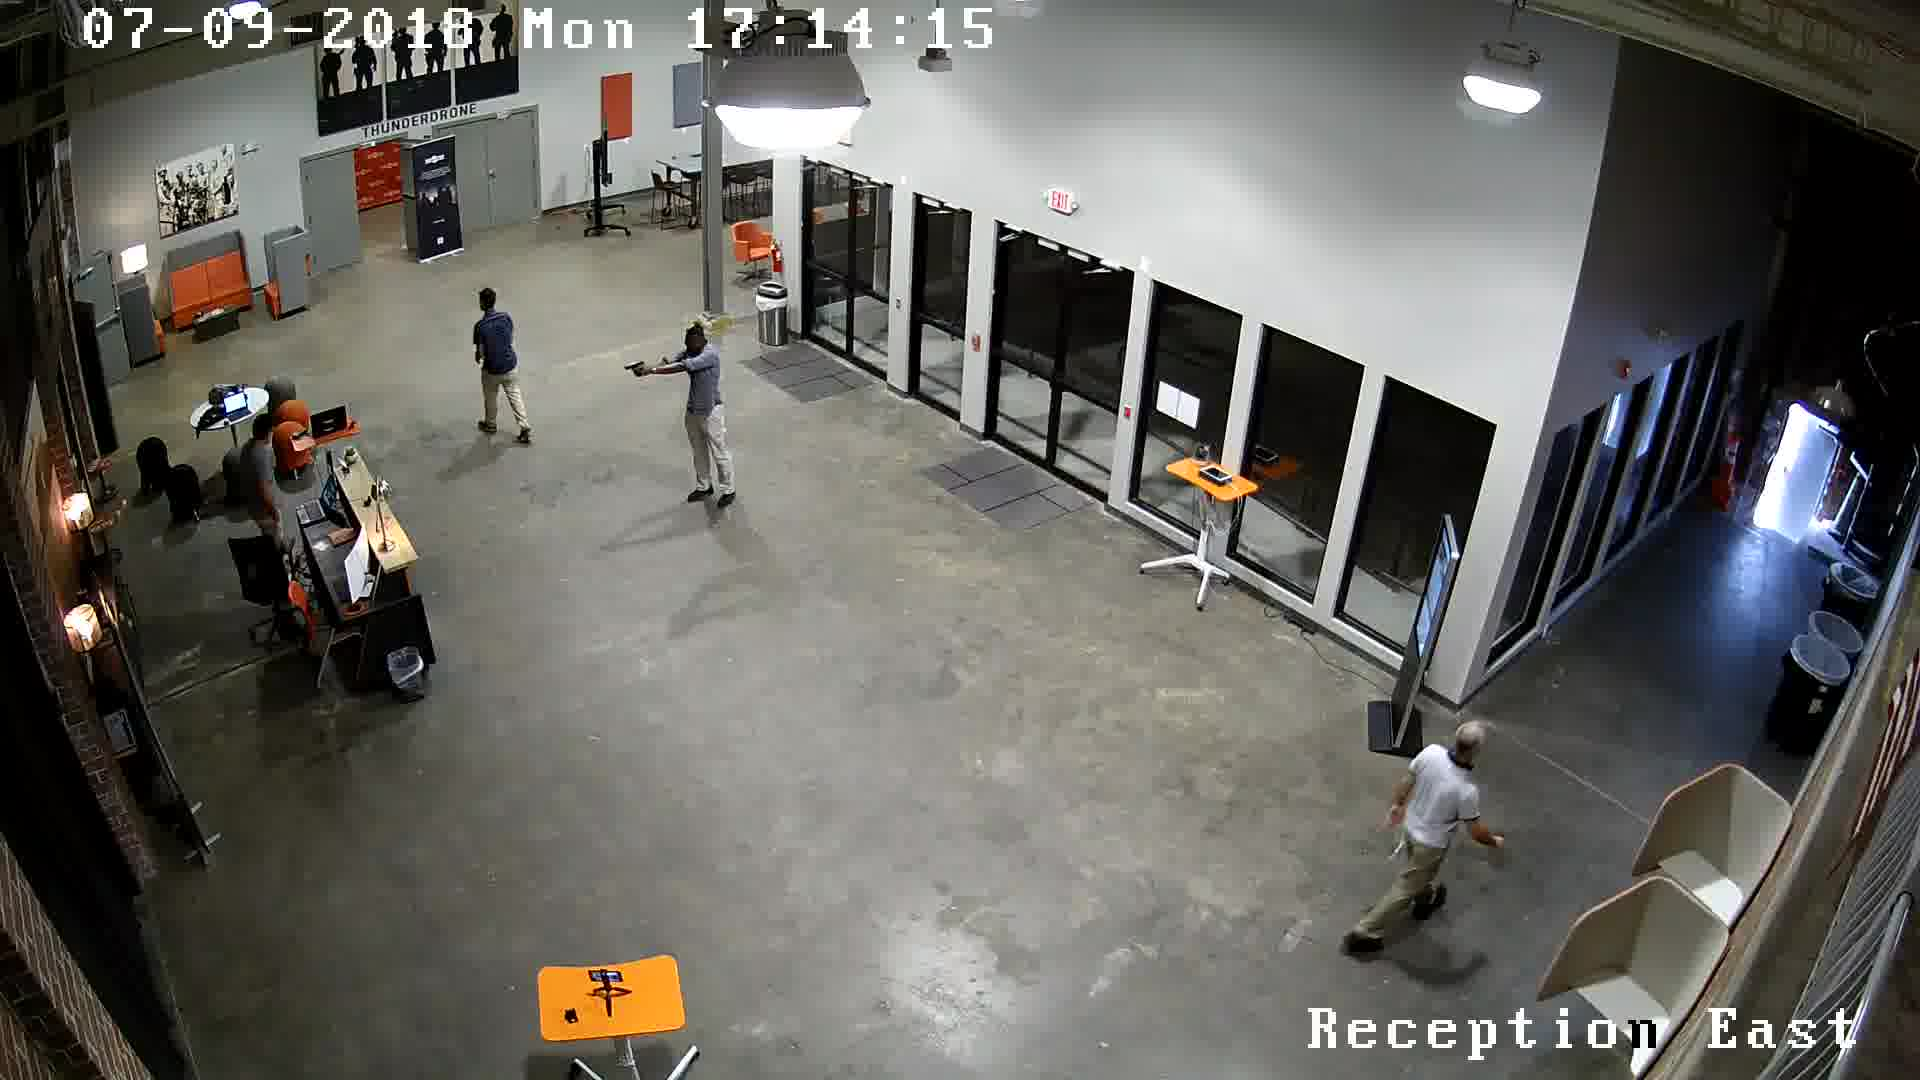pistol: (621, 359, 654, 386)
